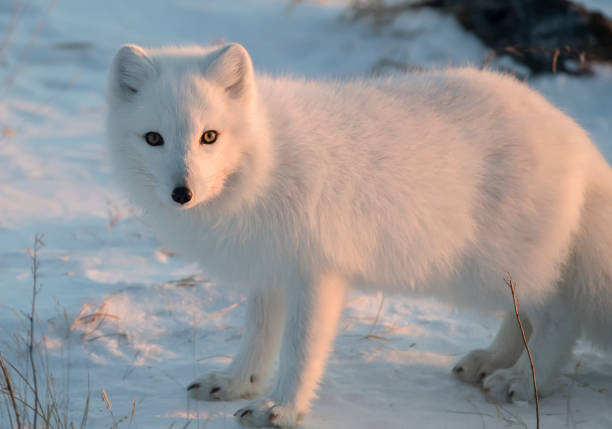arcticfox: (117, 83, 253, 228)
